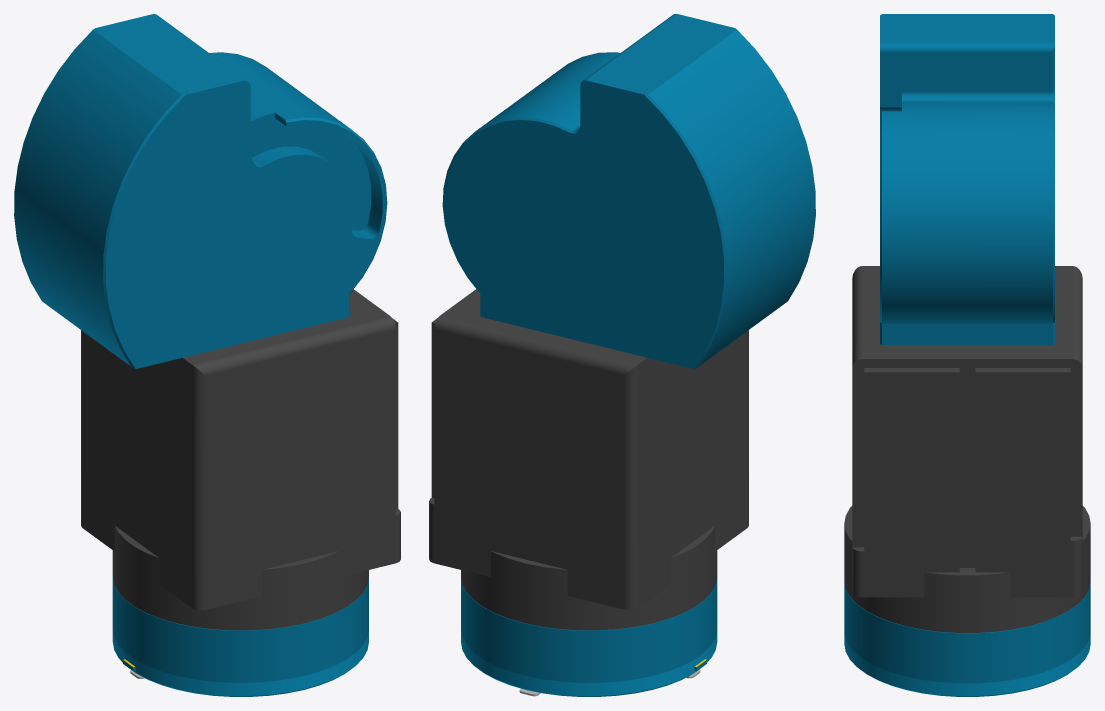
Rendered from shoulder_link.dae.
3 views of the same model, side by side, from view 1: azimuth 30°, elevation 25°; view 2: azimuth 150°, elevation 25°; view 3: azimuth 270°, elevation 25° (orthographic). The views are drawn at different scales.
Parts seen in each view (by area): view 1: FBXASC227FBXASC130FBXASC189FBXASC227FBXASC131FBXASC170FBXASC (×5); view 2: FBXASC227FBXASC130FBXASC189FBXASC227FBXASC131FBXASC170FBXASC (×5); view 3: FBXASC227FBXASC130FBXASC189FBXASC227FBXASC131FBXASC170FBXASC (×5).
Part boxes in pixels (x1,y1,x2,y2): FBXASC227FBXASC130FBXASC189FBXASC227FBXASC131FBXASC170FBXASC (×5): [14, 14, 400, 696]; FBXASC227FBXASC130FBXASC189FBXASC227FBXASC131FBXASC170FBXASC (×5): [429, 14, 815, 696]; FBXASC227FBXASC130FBXASC189FBXASC227FBXASC131FBXASC170FBXASC (×5): [844, 14, 1090, 696].
Bounding box in the file's own units: 0.0818 × 0.062 × 0.164.
